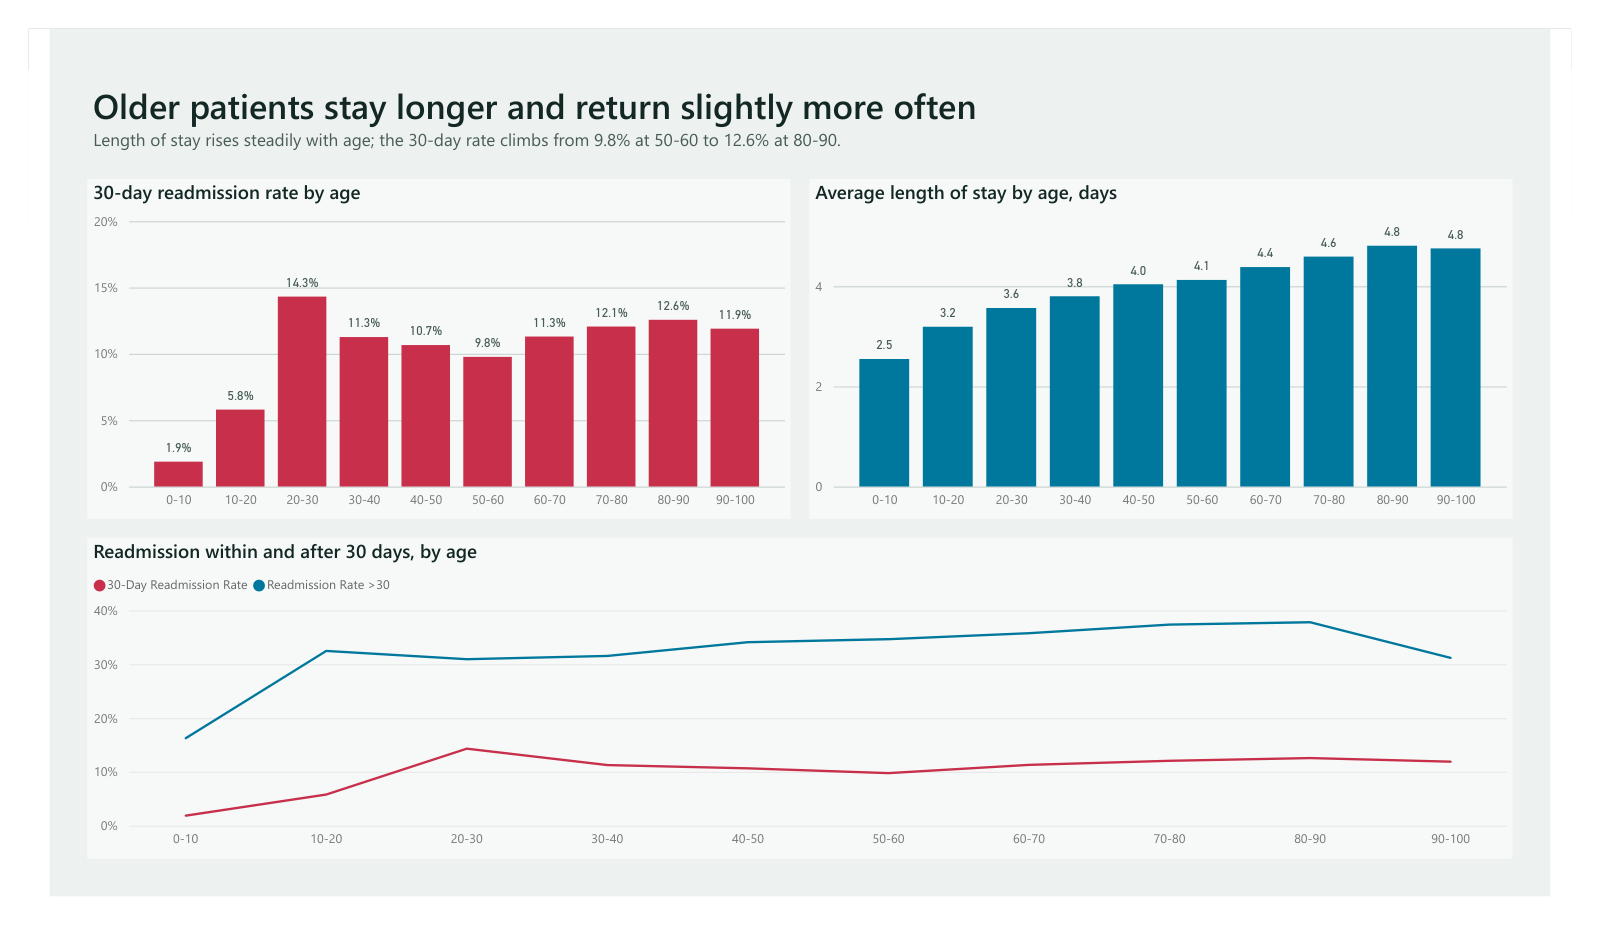

What the dashboard file says about the page in this screenshot:
{"tool":"powerbi","page":{"name":"Age","canvas":[1280,720],"ordinal":1},"visuals":[{"type":"textbox","box":[32,20,900,74],"z":0},{"type":"clusteredColumnChart","title":"30-day readmission rate by age","fields":{"Category":["fact_encounter.age_band"],"Y":["fact_encounter.30-Day Readmission Rate"]},"box":[32,108,600,290],"z":1000},{"type":"clusteredColumnChart","title":"Average length of stay by age, days","fields":{"Category":["fact_encounter.age_band"],"Y":["fact_encounter.Avg Length of Stay"]},"box":[648,108,600,290],"z":2000},{"type":"lineChart","title":"Readmission within and after 30 days, by age","fields":{"Category":["fact_encounter.age_band"],"Y":["fact_encounter.30-Day Readmission Rate","fact_encounter.Readmission Rate >30"]},"box":[32,414,1216,274],"z":3000}]}

Visuals, with their boxes in screenshot pixels (x1, y1, x2, y2), scaled from the page's 1280x720 canvas onto the 1600x926 screenshot:
textbox: Rect(40, 26, 1165, 121)
"30-day readmission rate by age" clusteredColumnChart: Rect(40, 139, 790, 512)
"Average length of stay by age, days" clusteredColumnChart: Rect(810, 139, 1560, 512)
"Readmission within and after 30 days, by age" lineChart: Rect(40, 532, 1560, 885)
